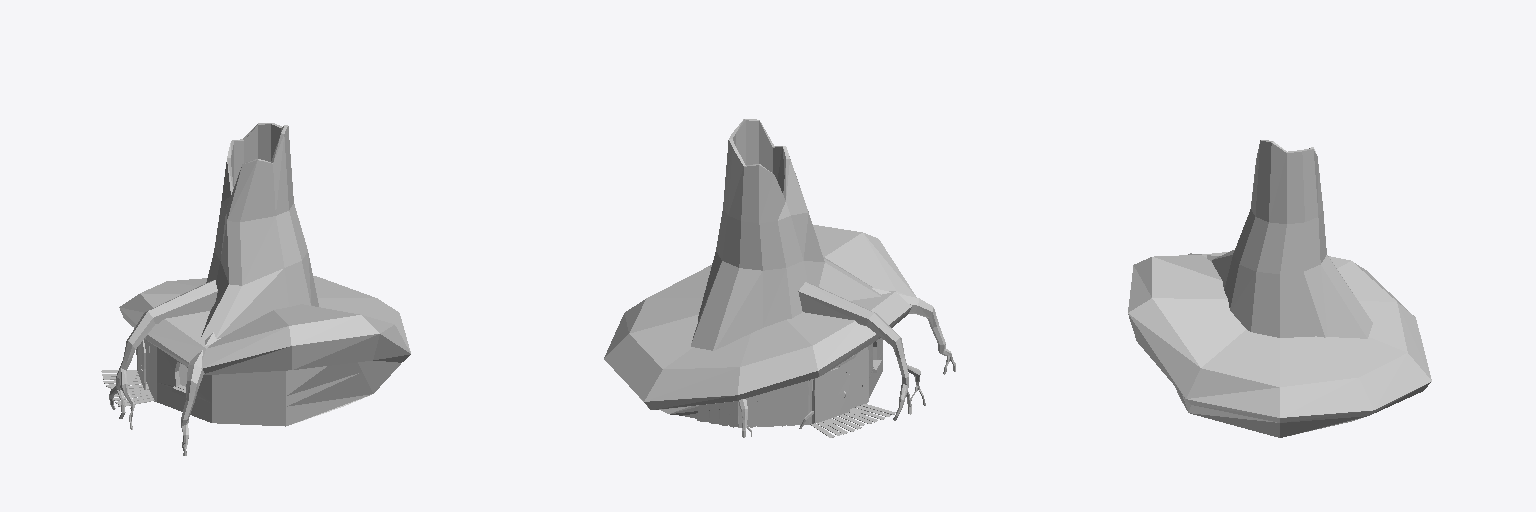
The model's file is house.obj.
The picture shows the model from 3 angles: view 1: azimuth 30°, elevation 25°; view 2: azimuth 150°, elevation 25°; view 3: azimuth 270°, elevation 25°; orthographic projection.
Parts seen in each view (by area): view 1: Object_Home_combined.jpg, Object_Home_tree2.jpg, Object_Home_tree1.jpg; view 2: Object_Home_combined.jpg, Object_Home_tree2.jpg, Object_Home_planks.jpg, Object_Home_tree1.jpg, Object_Home_door.jpg; view 3: Object_Home_combined.jpg, Object_Home_tree2.jpg.
Part boxes in pixels (bbox=[...]): Object_Home_combined.jpg: bbox=[119, 276, 410, 426]; Object_Home_tree2.jpg: bbox=[101, 123, 318, 406]; Object_Home_tree1.jpg: bbox=[109, 280, 220, 455]; Object_Home_combined.jpg: bbox=[604, 225, 916, 418]; Object_Home_tree2.jpg: bbox=[691, 119, 895, 437]; Object_Home_planks.jpg: bbox=[697, 347, 868, 427]; Object_Home_tree1.jpg: bbox=[738, 282, 955, 437]; Object_Home_door.jpg: bbox=[814, 368, 849, 423]; Object_Home_combined.jpg: bbox=[1128, 252, 1431, 437]; Object_Home_tree2.jpg: bbox=[1212, 140, 1372, 338].
Bounding box in the file's own units: 2.5 × 2.11 × 2.29.